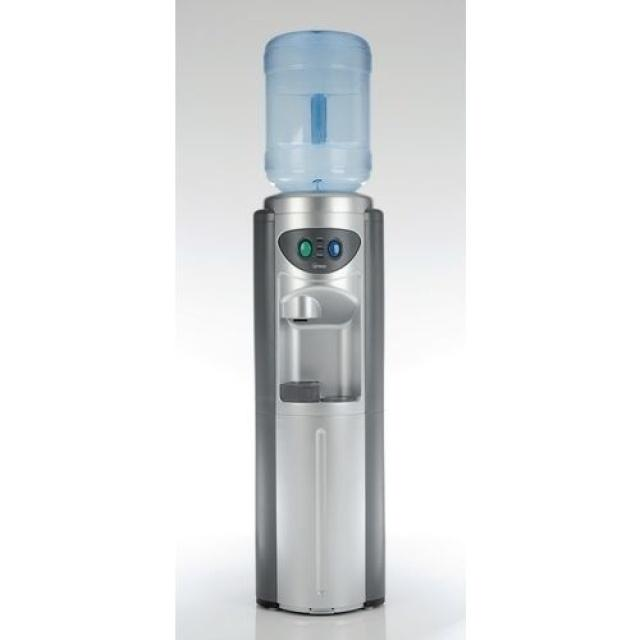Dispenser: (252, 30, 385, 614)
